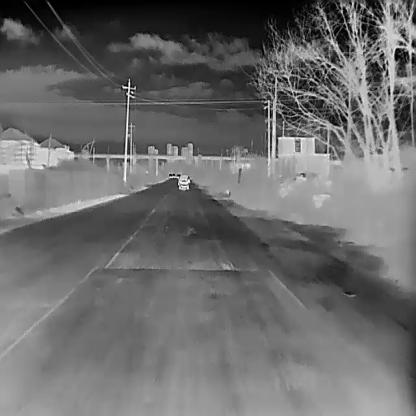car: (177, 173, 189, 189), (170, 172, 175, 178), (167, 172, 172, 178)
